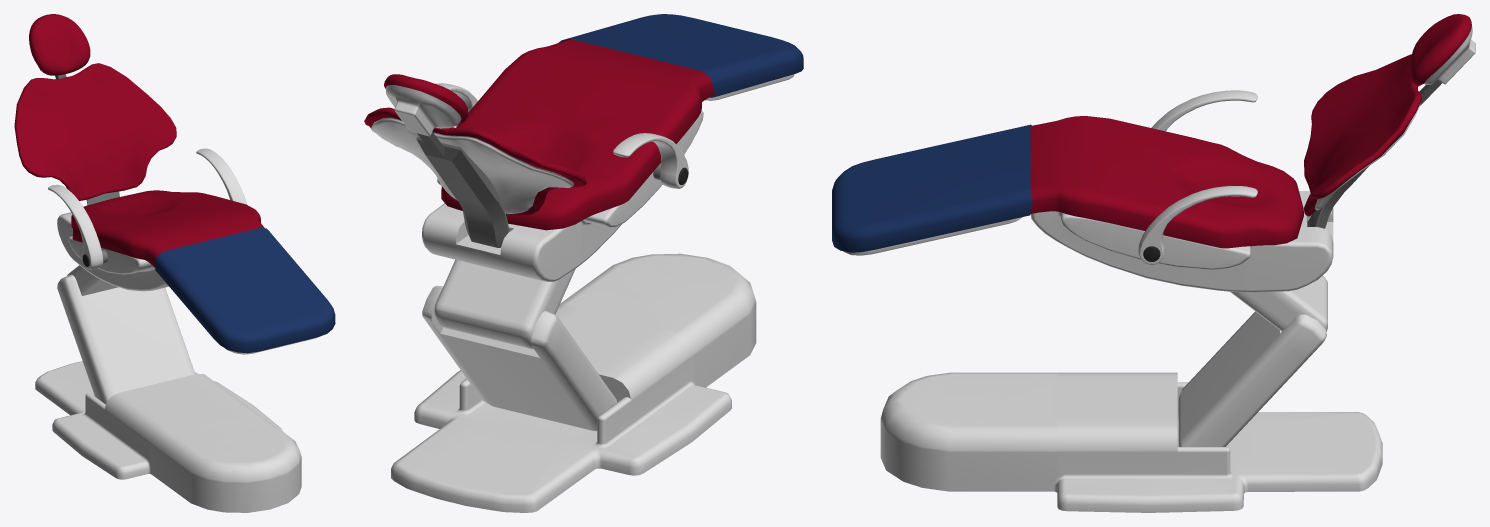
The model's file is Chair.fbx.
3 views of the same model, side by side, from view 1: azimuth 30°, elevation 25°; view 2: azimuth 150°, elevation 25°; view 3: azimuth 270°, elevation 25° (orthographic). The views are drawn at different scales.
Visible parts, largest first — view 1: seat, base, backrest, Hinge2, headrest, arms, Hinge1; view 2: base, seat, Hinge2, backrest, Hinge1, headrest, arms; view 3: seat, base, backrest, Hinge2, headrest, arms, Hinge1.
Part boxes in pixels (bbox=[...]): seat: bbox=[57, 190, 335, 354]; base: bbox=[35, 361, 301, 512]; backrest: bbox=[14, 63, 176, 205]; Hinge2: bbox=[57, 274, 195, 404]; headrest: bbox=[29, 14, 90, 78]; arms: bbox=[48, 148, 247, 269]; Hinge1: bbox=[67, 265, 118, 295]; base: bbox=[391, 253, 756, 512]; seat: bbox=[422, 14, 803, 281]; Hinge2: bbox=[422, 285, 616, 431]; backrest: bbox=[364, 107, 586, 247]; Hinge1: bbox=[434, 259, 575, 349]; headrest: bbox=[384, 74, 468, 157]; arms: bbox=[436, 83, 688, 188]; seat: bbox=[832, 116, 1333, 292]; base: bbox=[880, 372, 1382, 512]; backrest: bbox=[1304, 54, 1421, 228]; Hinge2: bbox=[1178, 311, 1326, 446]; headrest: bbox=[1411, 14, 1475, 105]; arms: bbox=[1138, 90, 1257, 264]; Hinge1: bbox=[1230, 275, 1327, 331].
Bounding box in the file's own units: 68.04 × 125 × 167.
